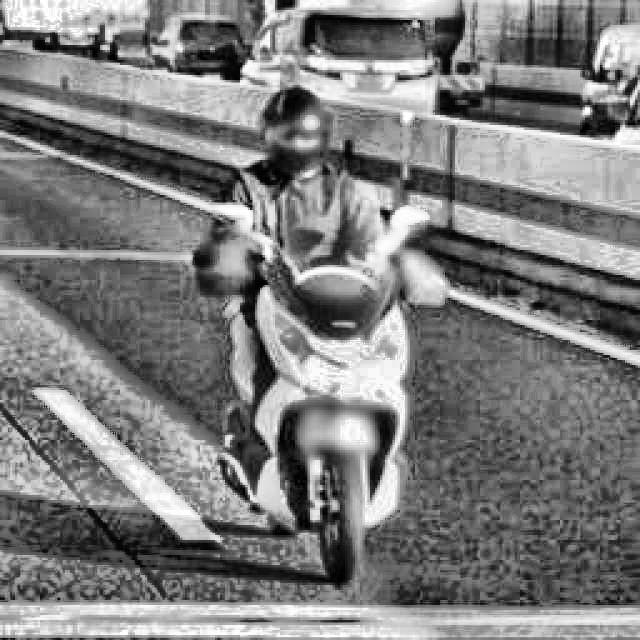motorcycle: (192, 192, 458, 583)
